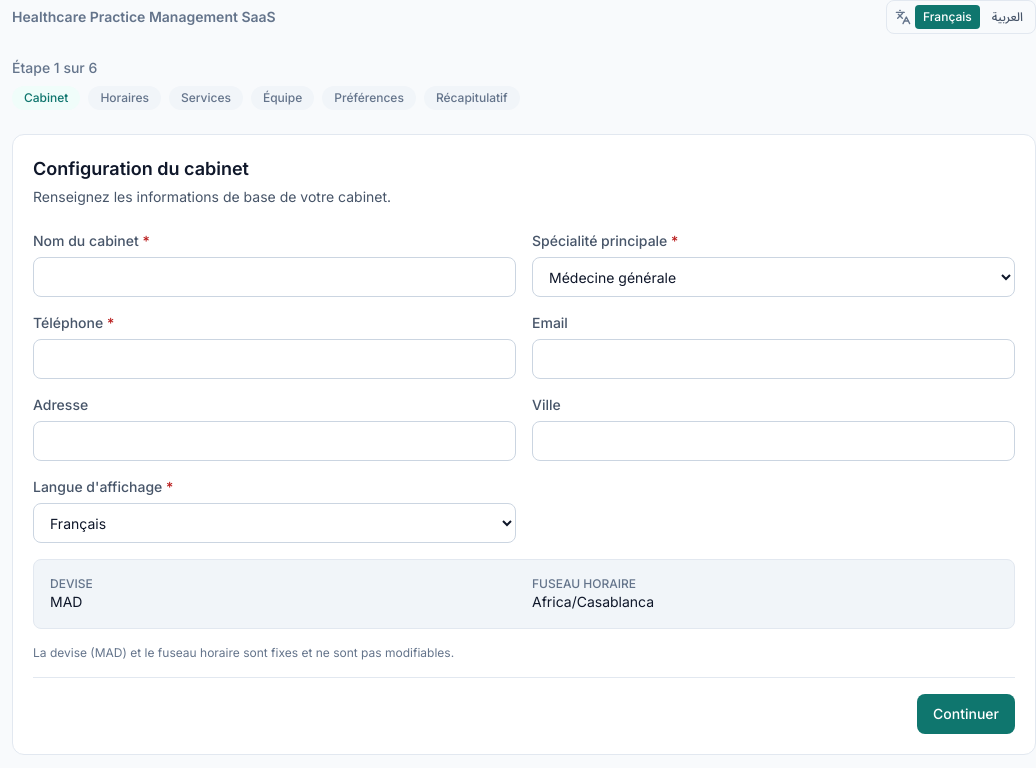
Test case: OnboardingWizard › advances to Horaires once Cabinet is valid
The image size is (1036, 768).
Type "Cabinet Test" into the field labelled "Nom du cabinet *".
click(274, 277); type("Cabinet Test")  # box [33, 257, 516, 297]
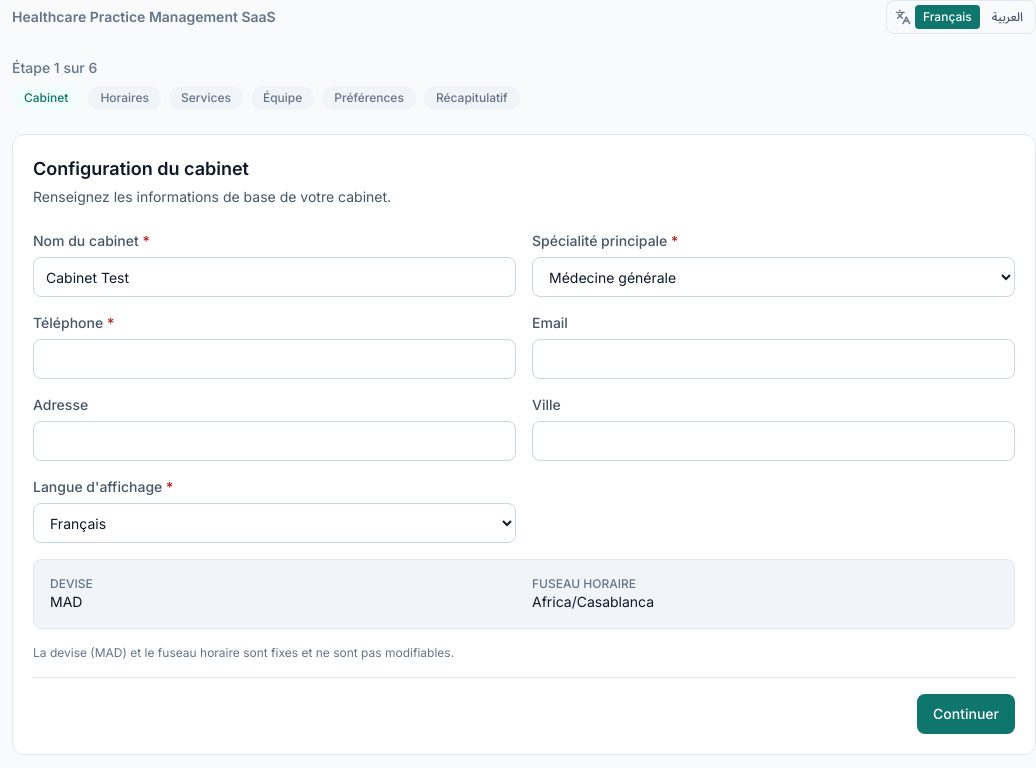
Type "0522334455" into the field labelled "Téléphone *".
click(274, 359); type("0522334455")  # box [33, 339, 516, 379]
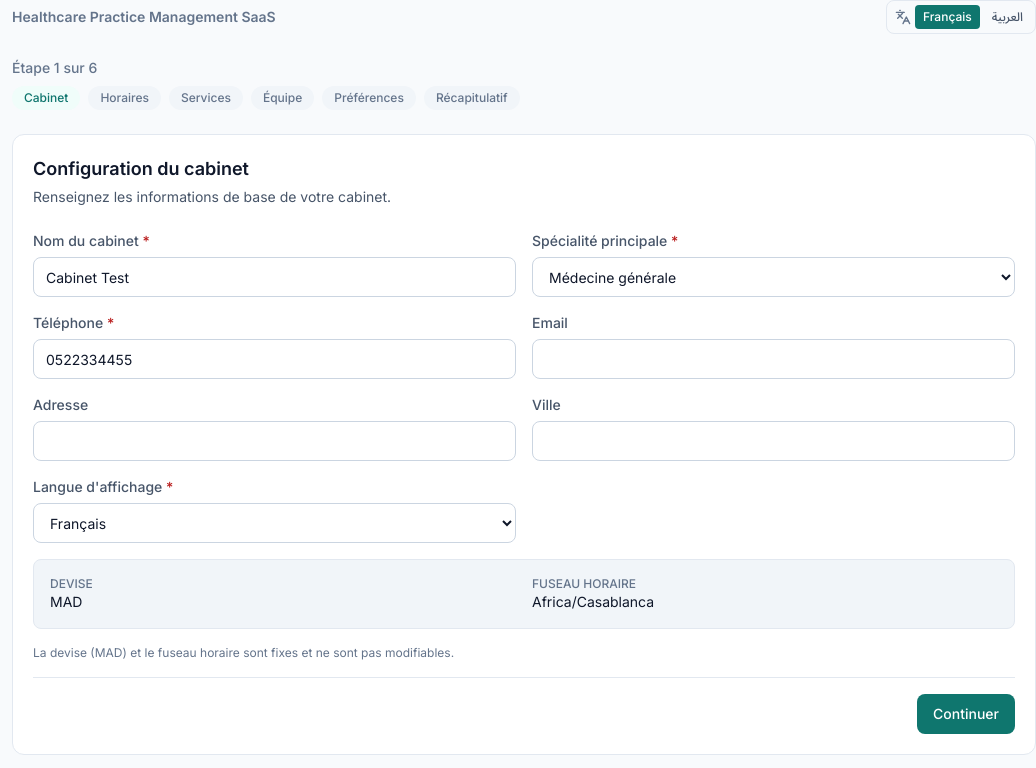
Click the button "Continuer".
click(966, 714)  # box [917, 694, 1015, 734]
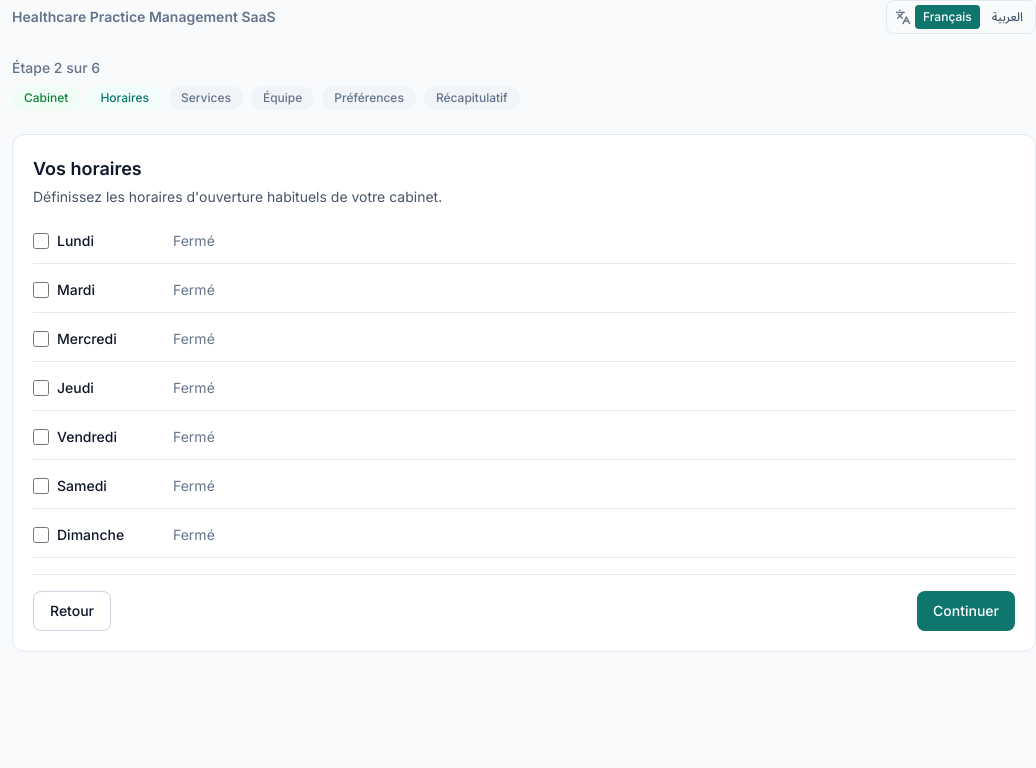
Check: the heading "Vos horaires" is shown, box [33, 158, 142, 179]
Check: the text "Étape 2 sur 6" is shown, box [12, 59, 100, 76]
